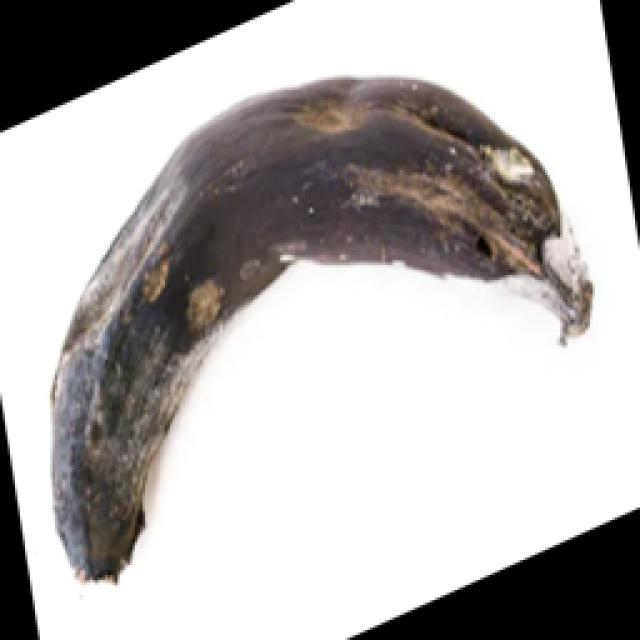Rotten_Banana: (14, 53, 640, 603)
